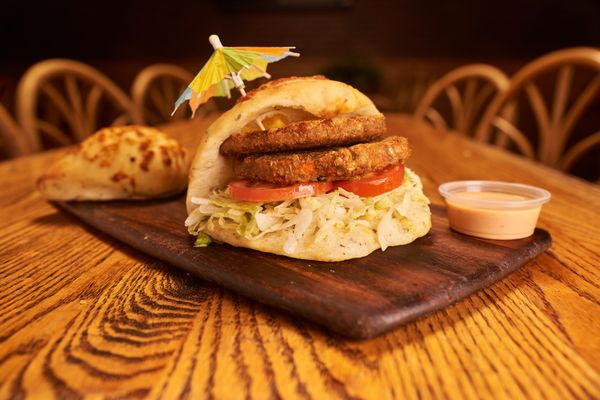soup: (184, 74, 432, 261)
sushi: (438, 179, 551, 240)
